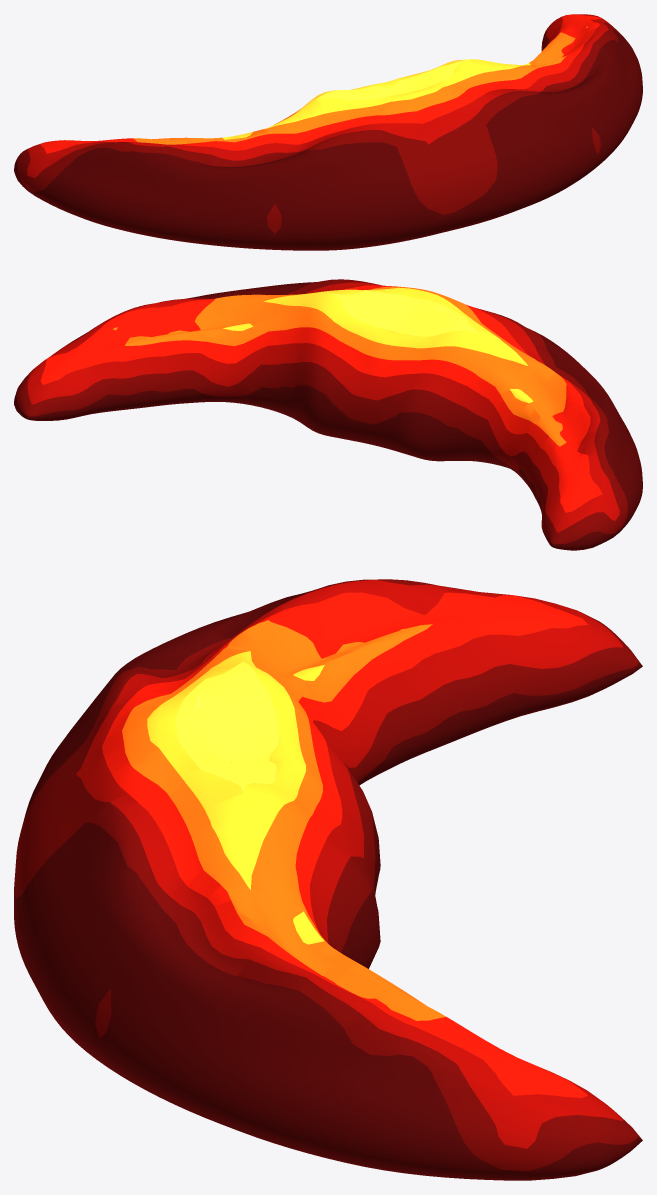
Rendered from fire_crescent.glb.
3 views of the same model, one above another, from view 1: azimuth 30°, elevation 25°; view 2: azimuth 150°, elevation 25°; view 3: azimuth 270°, elevation 25° (orthographic). The views are drawn at different scales.
Parts seen in each view (by area): view 1: fire_crescent; view 2: fire_crescent; view 3: fire_crescent.
Part boxes in pixels (bbox=[...]): fire_crescent: bbox=[14, 14, 642, 250]; fire_crescent: bbox=[14, 279, 642, 550]; fire_crescent: bbox=[14, 579, 642, 1180].
Bounding box in the file's own units: 23.61 × 5.1 × 11.78.
